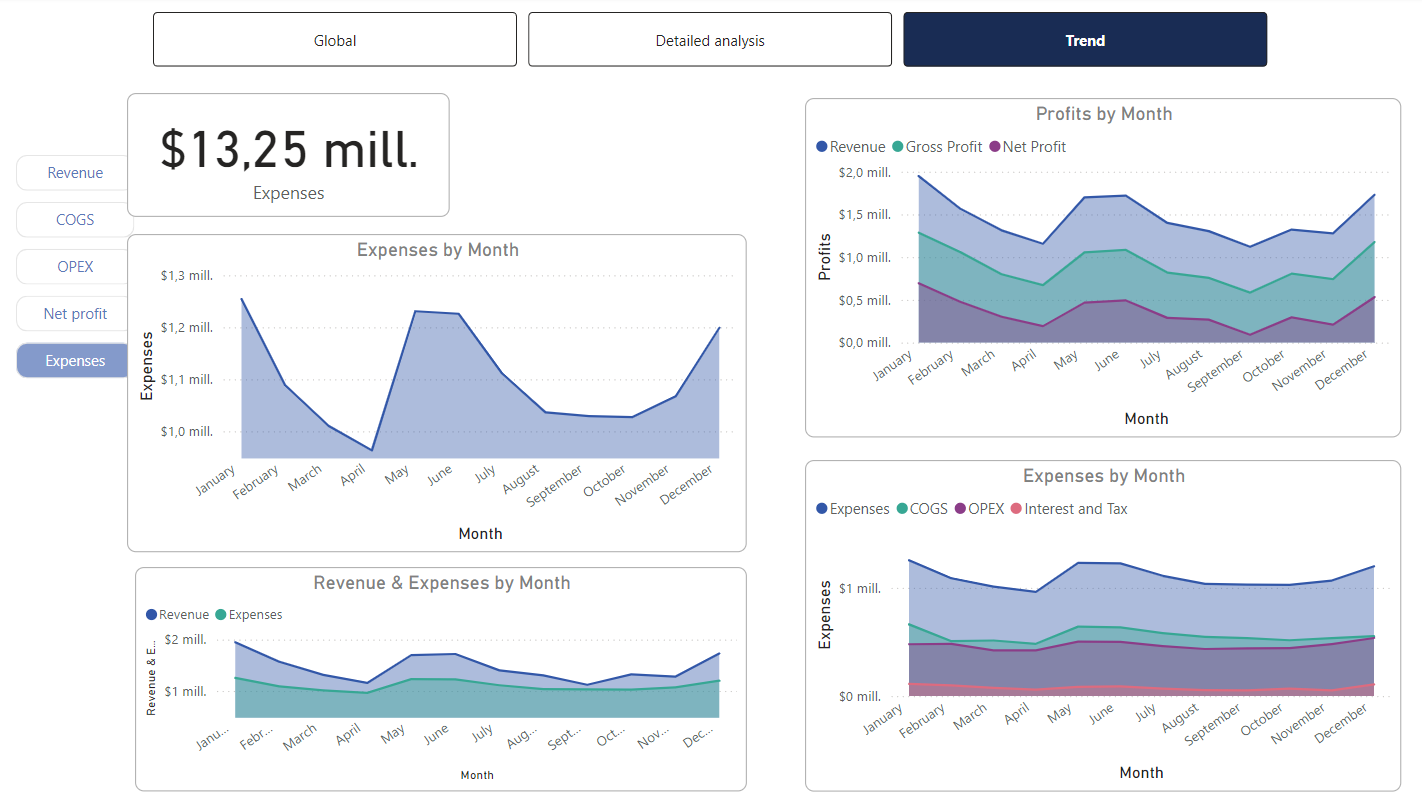

The page's visual inventory and layout, read from the dashboard file:
{"tool":"powerbi","page":{"name":"Trend","canvas":[1280,720],"ordinal":2},"visuals":[{"type":"areaChart","title":"Profits by Month","fields":{"Category":["revenue_expense.Month - name"],"Y":["revenue_expense.Revenue","revenue_expense.Gross Profit","revenue_expense.Net Profit"]},"box":[724.4,90.1,533.8,304.4],"z":0},{"type":"bookmarkNavigator","box":[18.1,141.5,106.8,202.6],"z":0,"group":"g1"},{"type":"group","id":"g1","title":"Objects visibility 1","box":[18.1,85.5,654.3,412],"z":1000},{"type":"pageNavigator","title":"Main navigator","box":[140.6,13.7,1001,49.7],"z":2000},{"type":"areaChart","title":"Expenses by Month","fields":{"Category":["revenue_expense.Month - name"],"Y":["revenue_expense.Expenses","revenue_expense.COGS","revenue_expense.OPEX","revenue_expense.Interest and Tax"]},"box":[724.4,414.3,533.8,296.8],"z":2001},{"type":"areaChart","title":"Revenue & Expenses by Month","fields":{"Y":["revenue_expense.Revenue","revenue_expense.Expenses"],"Category":["revenue_expense.Month - name"]},"box":[124.2,510.1,548,201],"z":2002},{"type":"areaChart","title":"Expenses by Month","fields":{"Category":["revenue_expense.Month - name"],"Y":["revenue_expense.Expenses"]},"box":[117.9,212.8,555,285],"z":8000,"group":"g1"},{"type":"card","title":"Expenses card","fields":{"Values":["revenue_expense.Expenses"]},"box":[117.9,86.1,289.3,110.9],"z":10000,"group":"g1"}]}

Visuals, with their boxes in screenshot pixels (x1, y1, x2, y2), scaled from the page's 1280x720 canvas onto the 1422x795 screenshot:
"Profits by Month" areaChart: x1=805 y1=99 x2=1398 y2=436
bookmarkNavigator: x1=20 y1=156 x2=139 y2=380
"Objects visibility 1" group: x1=20 y1=94 x2=747 y2=549
"Main navigator" pageNavigator: x1=156 y1=15 x2=1268 y2=70
"Expenses by Month" areaChart: x1=805 y1=457 x2=1398 y2=785
"Revenue & Expenses by Month" areaChart: x1=138 y1=563 x2=747 y2=785
"Expenses by Month" areaChart: x1=131 y1=235 x2=748 y2=550
"Expenses card" card: x1=131 y1=95 x2=452 y2=218
